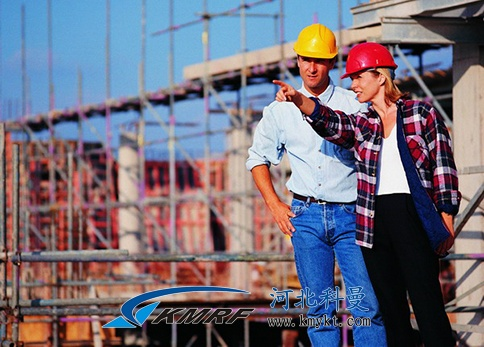red: (343, 42, 397, 105)
yellow: (293, 22, 337, 88)
